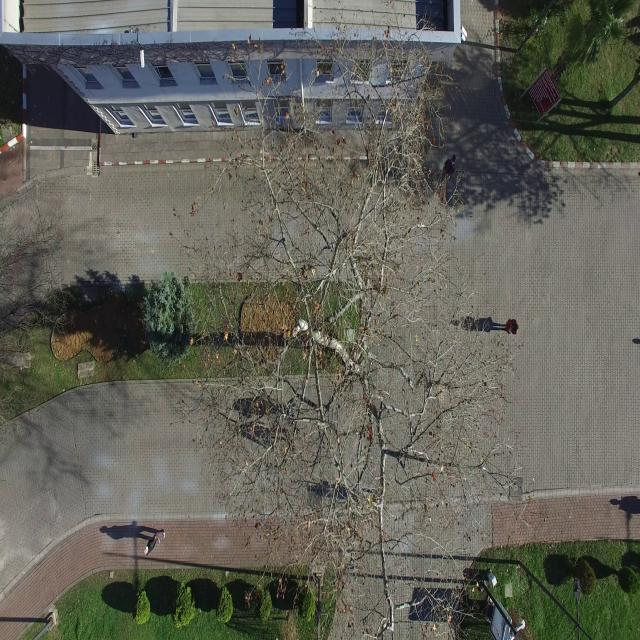p3rson: (144, 529, 166, 556), (441, 154, 456, 183), (501, 318, 519, 336)
